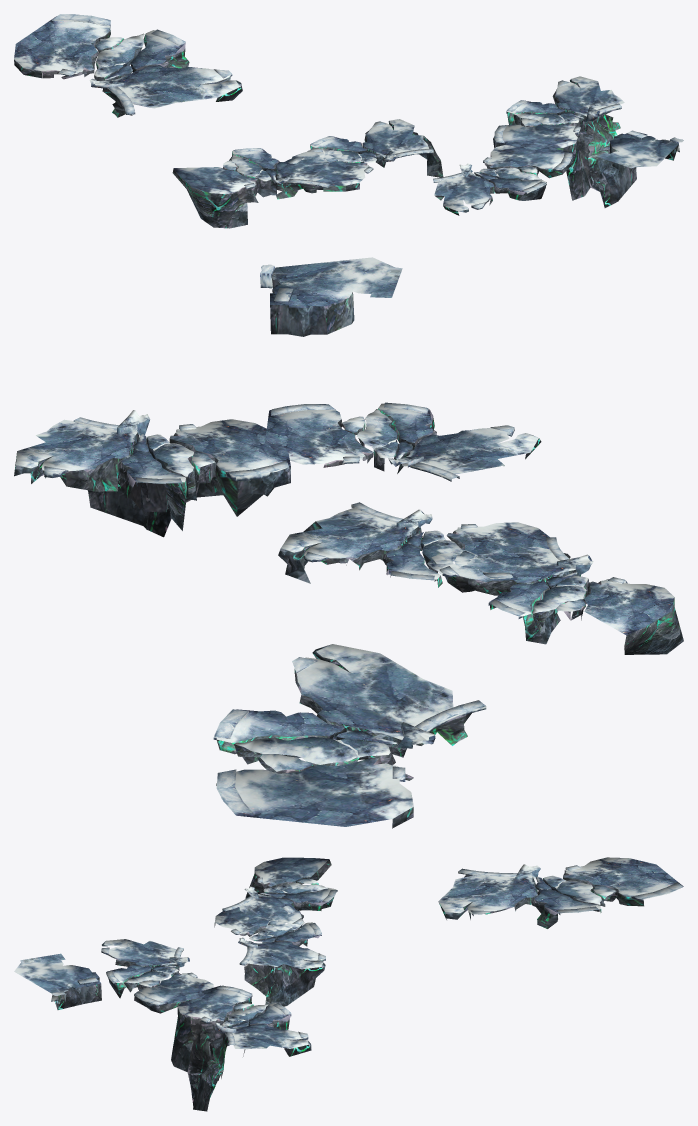
File: S_Build_Snowland206_8.FBX
The picture shows the model from 3 angles, top to bottom: view 1: azimuth 30°, elevation 25°; view 2: azimuth 150°, elevation 25°; view 3: azimuth 270°, elevation 25°; orthographic projection. The views are drawn at different scales.
Visible parts, largest first — view 1: S_Build_Snowland206_004, S_Build_Snowland206_001, S_Build_Snowland206_005, S_Build_Snowland206_002, S_Build_Snowland206_003, S_Build_Snowland208_001; view 2: S_Build_Snowland206_004, S_Build_Snowland206_001, S_Build_Snowland206_005, S_Build_Snowland206_002, S_Build_Snowland206_003, S_Build_Snowland208_001; view 3: S_Build_Snowland206_004, S_Build_Snowland206_001, S_Build_Snowland206_003, S_Build_Snowland206_002, S_Build_Snowland206_005, S_Build_Snowland208_001.
Boxes of the visible parts, x1=… form: S_Build_Snowland206_004: x1=14, y1=14, x2=242, y2=117; S_Build_Snowland206_001: x1=493, y1=76, x2=636, y2=207; S_Build_Snowland206_005: x1=172, y1=148, x2=345, y2=228; S_Build_Snowland206_002: x1=433, y1=143, x2=573, y2=215; S_Build_Snowland206_003: x1=288, y1=119, x2=443, y2=191; S_Build_Snowland208_001: x1=597, y1=130, x2=683, y2=169; S_Build_Snowland206_004: x1=213, y1=644, x2=486, y2=828; S_Build_Snowland206_001: x1=14, y1=410, x2=290, y2=537; S_Build_Snowland206_005: x1=428, y1=537, x2=683, y2=654; S_Build_Snowland206_002: x1=265, y1=402, x2=541, y2=481; S_Build_Snowland206_003: x1=278, y1=502, x2=549, y2=587; S_Build_Snowland208_001: x1=260, y1=257, x2=402, y2=336; S_Build_Snowland206_004: x1=438, y1=857, x2=683, y2=928; S_Build_Snowland206_001: x1=171, y1=985, x2=311, y2=1111; S_Build_Snowland206_003: x1=214, y1=905, x2=325, y2=1010; S_Build_Snowland206_002: x1=101, y1=939, x2=213, y2=1013; S_Build_Snowland206_005: x1=222, y1=857, x2=337, y2=933; S_Build_Snowland208_001: x1=14, y1=953, x2=101, y2=1009.
Size of the model in its own units: 6089 by 8752 by 1689.
